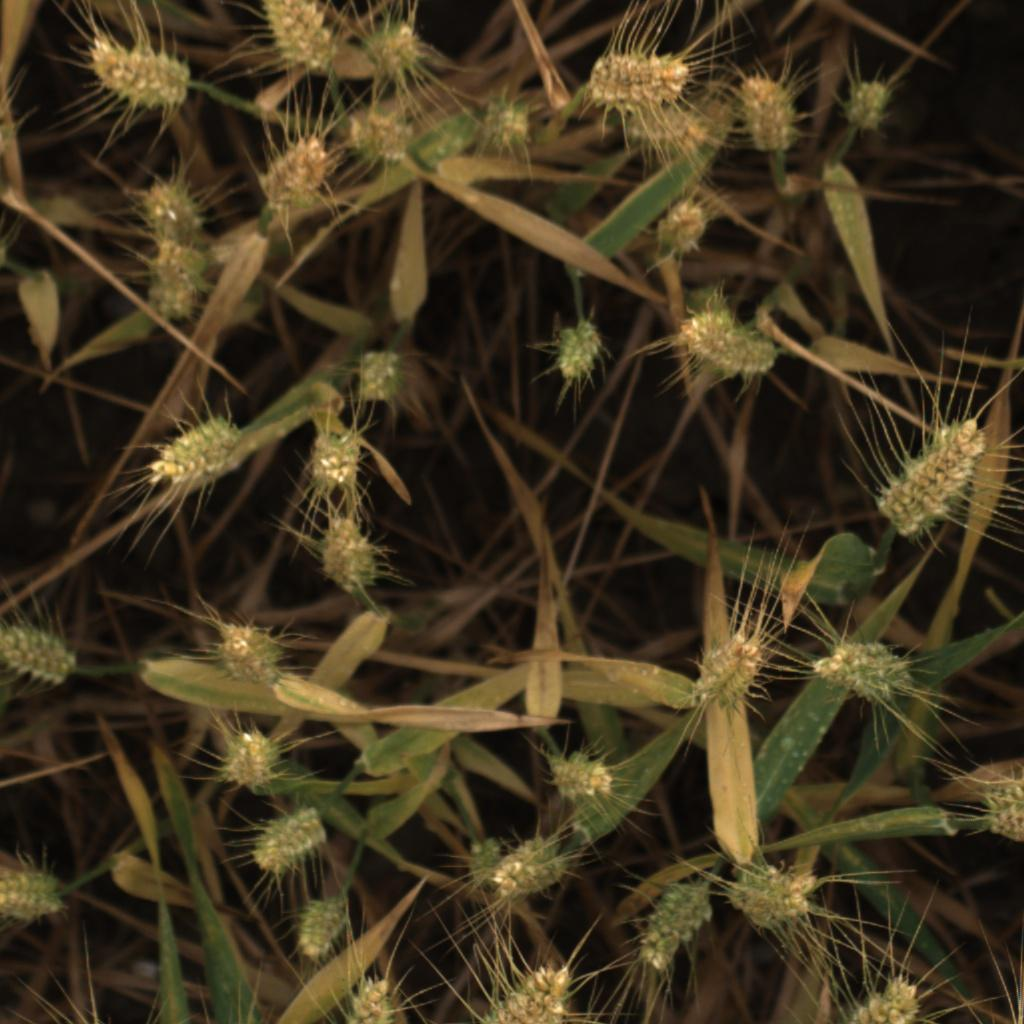0-0: (872, 418, 987, 538), (676, 295, 781, 380), (86, 32, 190, 115), (812, 631, 916, 710), (143, 413, 243, 487), (454, 963, 570, 1024), (636, 882, 711, 975), (584, 47, 692, 111), (253, 0, 343, 75), (145, 236, 214, 329), (729, 862, 826, 928), (257, 132, 335, 213), (695, 633, 770, 714), (486, 830, 570, 902), (735, 70, 805, 156), (315, 515, 386, 596), (248, 805, 325, 878), (0, 617, 78, 689), (212, 617, 289, 687), (823, 972, 923, 1024), (136, 175, 208, 244), (621, 106, 710, 161), (542, 747, 622, 805), (347, 106, 418, 169), (0, 858, 65, 923), (360, 17, 425, 82), (480, 89, 541, 158), (654, 192, 713, 260), (304, 426, 365, 491), (222, 726, 282, 791), (293, 894, 346, 966), (549, 318, 604, 386), (842, 66, 893, 138), (354, 345, 414, 406), (986, 761, 1024, 845), (334, 974, 397, 1024), (461, 845, 511, 908)
